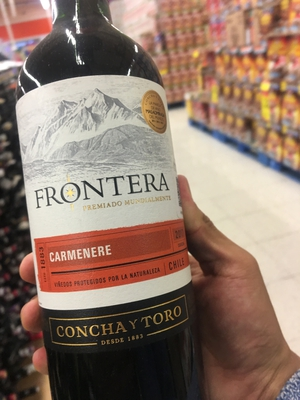frontera cabernet sauvignon: (18, 12, 201, 400)
